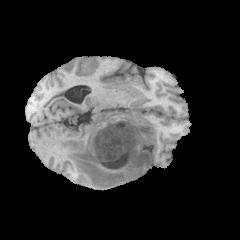glioma: (56, 103, 157, 188)
